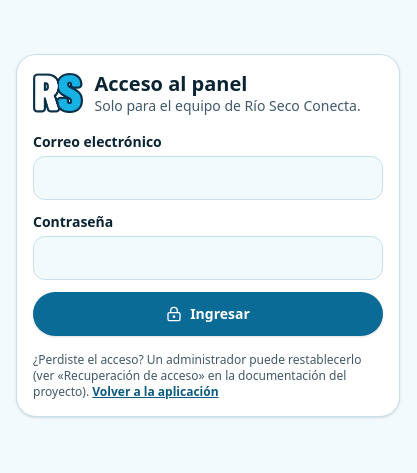
Test case: acceso al panel › una cuenta bloqueada informa el bloqueo temporal
This screenshot has width=417, height=473.
In the field labelled "Correo electrónico": (208, 178) [33,156,383,200], type "a@b.co"
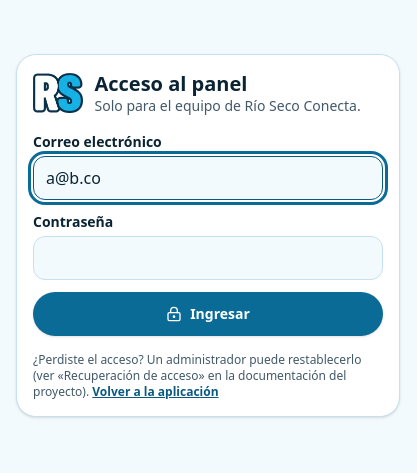
In the password field labelled "Contraseña": (208, 258) [33,236,383,280], type "x"
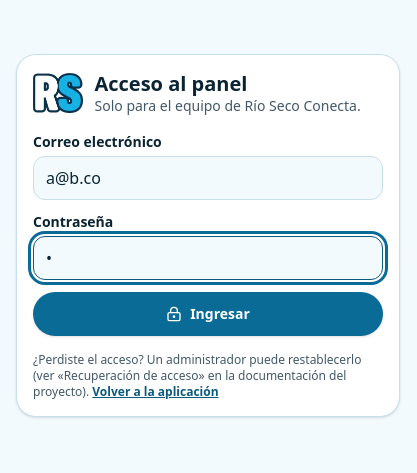
Click the button "Ingresar": (208, 314) [33,292,383,336]
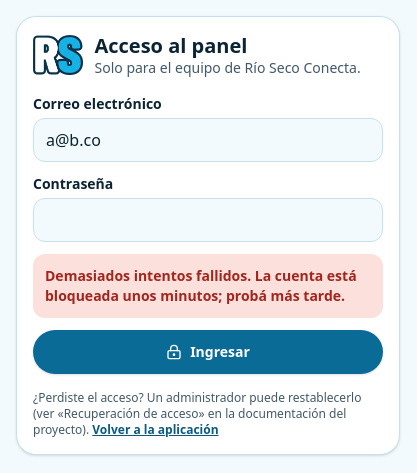
Check: the message shows "bloqueada unos minutos", box [45,266,357,304]
